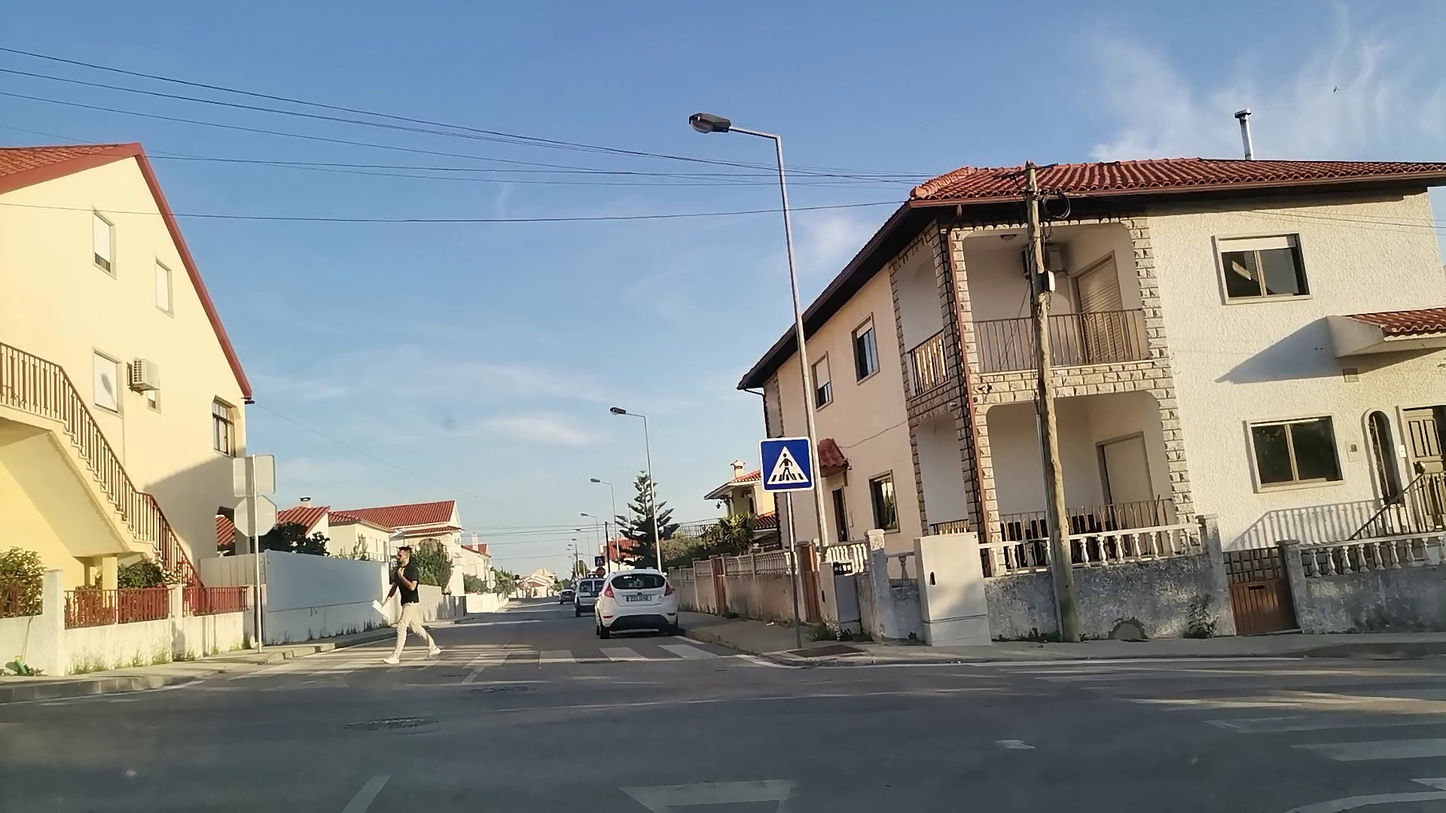Stairs: (242, 636, 741, 669)
